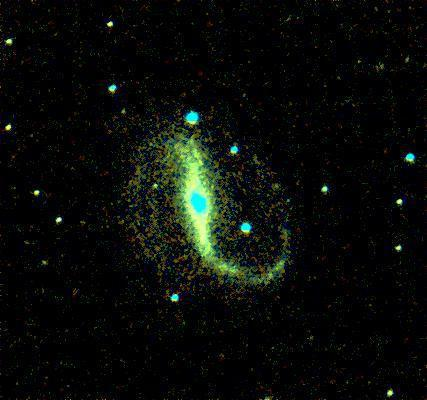star: (198, 171, 228, 201)
